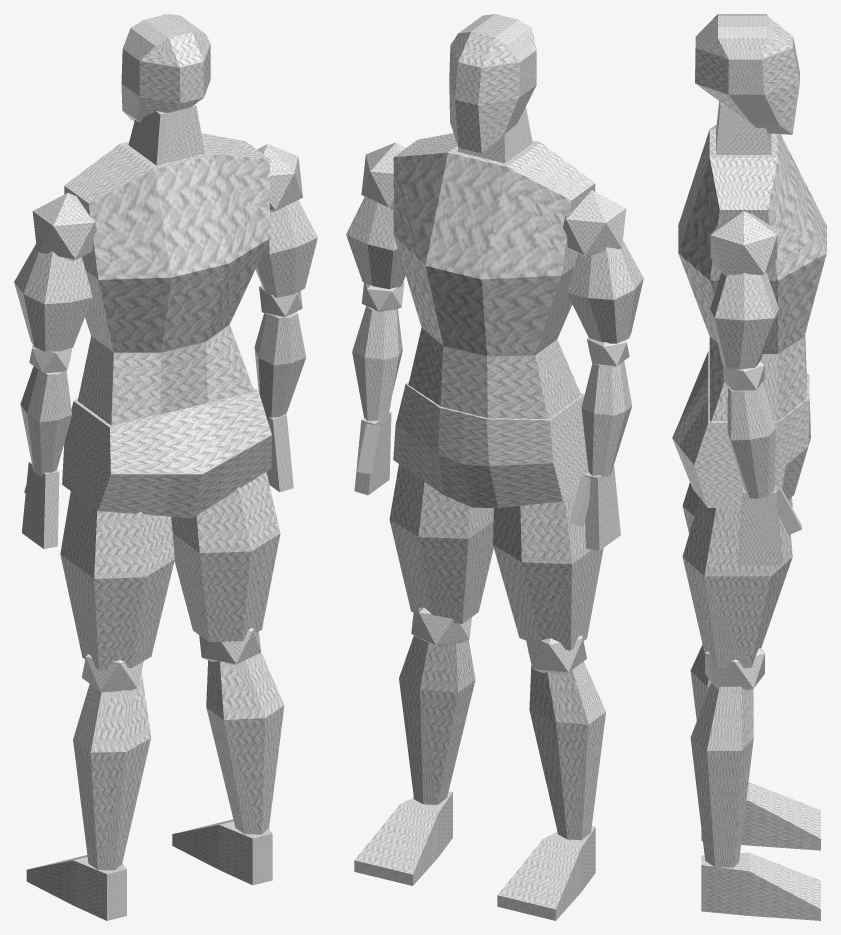
The model's file is TestCharacter.glb.
3 renders of one model, left to right at view 1: azimuth 30°, elevation 25°; view 2: azimuth 150°, elevation 25°; view 3: azimuth 270°, elevation 25°, orthographic. The views are drawn at different scales.
Visible parts, largest first — view 1: Character_Cube.025; view 2: Character_Cube.025; view 3: Character_Cube.025.
Part boxes in pixels (x1,y1,x2,y2): Character_Cube.025: [14, 14, 317, 920]; Character_Cube.025: [346, 14, 643, 920]; Character_Cube.025: [672, 14, 826, 920].
Bounding box in the file's own units: 1.1 × 3.18 × 0.525.
1 material, 1 textured.
